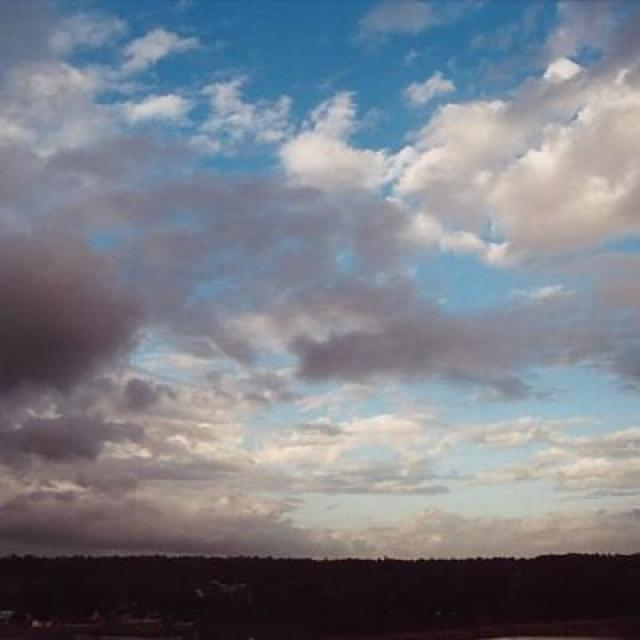Sc: (1, 76, 640, 484)
